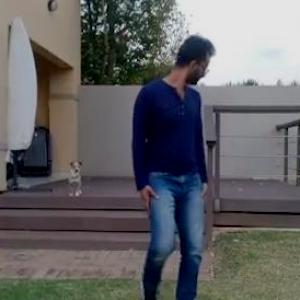follow: (129, 18, 238, 290)
